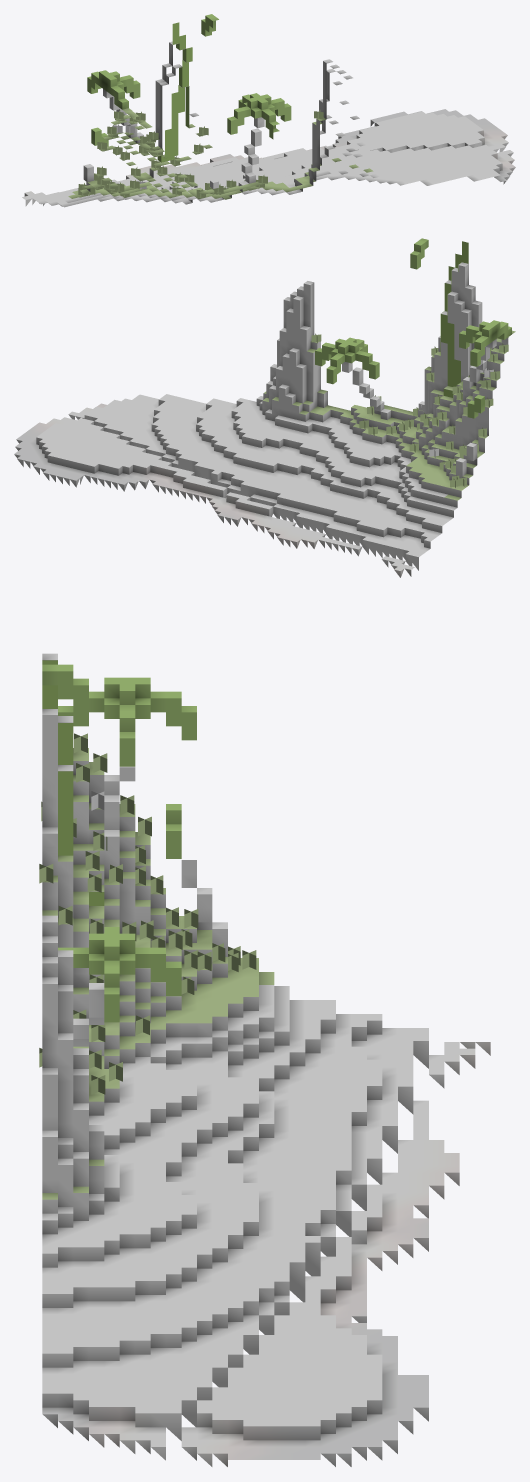
3 renders of one model, top to bottom at view 1: azimuth 30°, elevation 25°; view 2: azimuth 150°, elevation 25°; view 3: azimuth 270°, elevation 25°, orthographic. The views are drawn at different scales.
Visible parts, largest first — view 1: opaco, recorte; view 2: opaco, recorte; view 3: opaco, recorte.
Boxes of the visible parts, x1,y1,x2,y2 form: opaco: [22, 41, 515, 207]; recorte: [68, 14, 373, 199]; opaco: [14, 262, 507, 577]; recorte: [262, 238, 515, 507]; opaco: [42, 653, 490, 1466]; recorte: [39, 660, 274, 1213].
Size of the model in its own units: 64.2 by 35 by 29.2.
